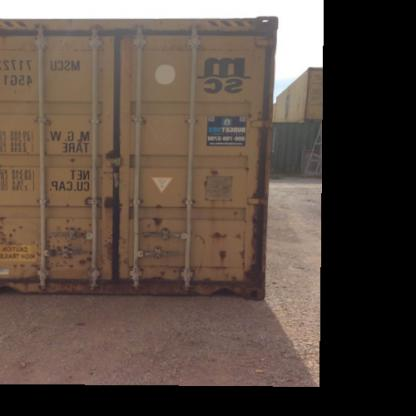Damage: (41, 241, 98, 276), (139, 262, 179, 288), (0, 217, 28, 249), (56, 215, 92, 237), (205, 266, 244, 286), (99, 189, 126, 217), (198, 161, 223, 189), (11, 256, 43, 275), (234, 230, 249, 260), (135, 112, 153, 131), (191, 228, 207, 247), (149, 214, 168, 230), (213, 245, 229, 262), (208, 225, 227, 239), (64, 148, 81, 163), (230, 204, 242, 220), (242, 159, 251, 172), (150, 200, 164, 208), (62, 199, 74, 207)
